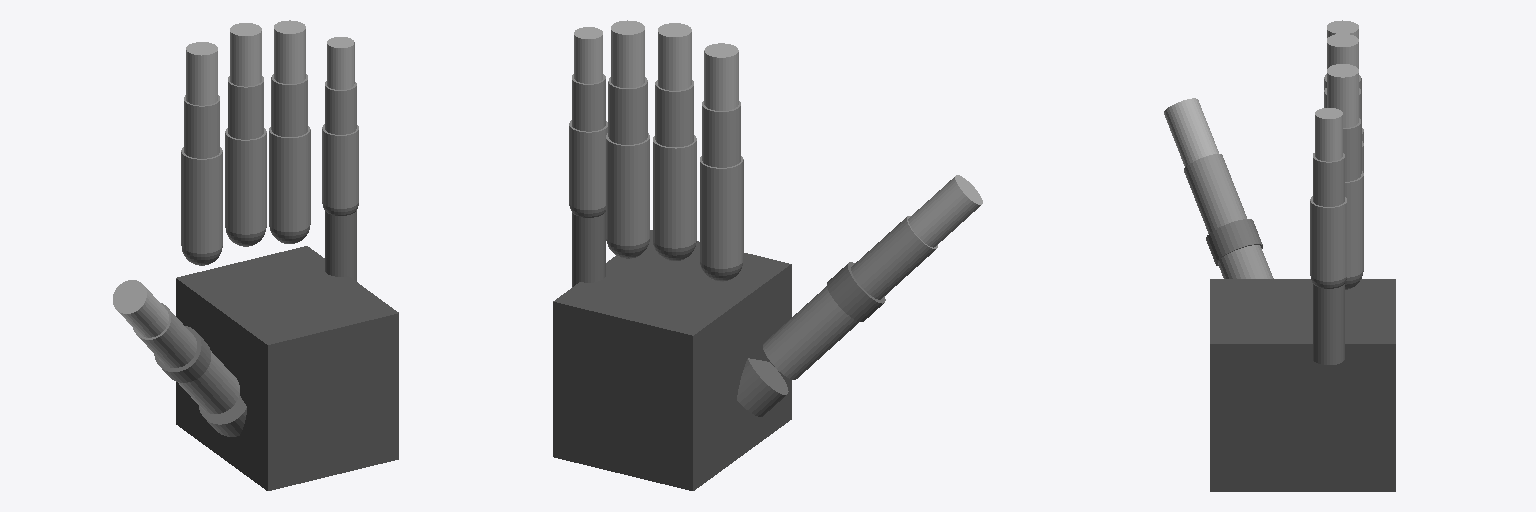
URDF robot description (shadowhand-left):
<?xml version="1.0" encoding="utf-8"?>
<robot name="shadowhand-left">
  <mujoco>
    <compiler balanceinertia="true" discardvisual="false" eulerseq="xyz" autolimits="true"/>
  </mujoco>

  <!-- Palm Link -->
  <link name="lh_palm">
    <inertial>
      <origin xyz="0 0 0.035" rpy="0 0 0"/>
      <mass value="0.3"/>
      <inertia ixx="0.0003" ixy="0" ixz="0" iyy="0.0002" iyz="0" izz="0.0001"/>
    </inertial>
    <visual>
      <origin xyz="0 0 0.035" rpy="0 0 0"/>
      <geometry>
        <box size="0.066 0.08 0.07"/>
      </geometry>
      <material name="grey">
        <color rgba="0.4 0.4 0.4 1"/>
      </material>
    </visual>
    <collision>
      <origin xyz="0 0 0.035" rpy="0 0 0"/>
      <geometry>
        <box size="0.066 0.08 0.07"/>
      </geometry>
    </collision>
  </link>

  <!-- ==================== THUMB (Mirrored) ==================== -->
  <link name="lh_thbase">
    <inertial>
      <origin xyz="0 0 0" rpy="0 0 0"/>
      <mass value="0.01"/>
      <inertia ixx="1e-6" ixy="0" ixz="0" iyy="1e-6" iyz="0" izz="1e-6"/>
    </inertial>
    <visual>
      <origin xyz="0 0 0" rpy="0 0 0"/>
      <geometry>
        <cylinder radius="0.012" length="0.014"/>
      </geometry>
      <material name="darkgrey">
        <color rgba="0.5 0.5 0.5 1"/>
      </material>
    </visual>
    <collision>
      <origin xyz="0 0 0" rpy="0 0 0"/>
      <geometry>
        <cylinder radius="0.012" length="0.014"/>
      </geometry>
    </collision>
  </link>
  <joint name="lh_THJ5" type="revolute">
    <origin xyz="-0.034 -0.009 0.029" rpy="0 -0.7854 0.5236"/>
    <parent link="lh_palm"/>
    <child link="lh_thbase"/>
    <axis xyz="0 0 1"/>
    <limit lower="-1.047" upper="1.047" effort="2" velocity="4"/>
  </joint>

  <link name="lh_thproximal">
    <inertial>
      <origin xyz="0 0 0.019" rpy="0 0 0"/>
      <mass value="0.04"/>
      <inertia ixx="1e-5" ixy="0" ixz="0" iyy="1e-5" iyz="0" izz="5e-6"/>
    </inertial>
    <visual>
      <origin xyz="0 0 0.019" rpy="0 0 0"/>
      <geometry>
        <cylinder radius="0.01" length="0.038"/>
      </geometry>
      <material name="lightgrey">
        <color rgba="0.6 0.6 0.6 1"/>
      </material>
    </visual>
    <collision>
      <origin xyz="0 0 0.019" rpy="0 0 0"/>
      <geometry>
        <cylinder radius="0.01" length="0.038"/>
      </geometry>
    </collision>
  </link>
  <joint name="lh_THJ4" type="revolute">
    <origin xyz="0 0 0.014" rpy="0 0 0"/>
    <parent link="lh_thbase"/>
    <child link="lh_thproximal"/>
    <axis xyz="1 0 0"/>
    <limit lower="0" upper="1.222" effort="2" velocity="4"/>
  </joint>

  <link name="lh_thhub">
    <inertial>
      <origin xyz="0 0 0.005" rpy="0 0 0"/>
      <mass value="0.01"/>
      <inertia ixx="1e-6" ixy="0" ixz="0" iyy="1e-6" iyz="0" izz="1e-6"/>
    </inertial>
    <visual>
      <origin xyz="0 0 0.006" rpy="0 0 0"/>
      <geometry>
        <cylinder radius="0.011" length="0.012"/>
      </geometry>
      <material name="darkgrey"/>
    </visual>
    <collision>
      <origin xyz="0 0 0.006" rpy="0 0 0"/>
      <geometry>
        <cylinder radius="0.011" length="0.012"/>
      </geometry>
    </collision>
  </link>
  <joint name="lh_THJ3" type="revolute">
    <origin xyz="0 0 0.038" rpy="0 0 0"/>
    <parent link="lh_thproximal"/>
    <child link="lh_thhub"/>
    <axis xyz="1 0 0"/>
    <limit lower="-0.209" upper="0.209" effort="1" velocity="4"/>
  </joint>

  <link name="lh_thmiddle">
    <inertial>
      <origin xyz="0 0 0.016" rpy="0 0 0"/>
      <mass value="0.026"/>
      <inertia ixx="8e-6" ixy="0" ixz="0" iyy="8e-6" iyz="0" izz="3e-6"/>
    </inertial>
    <visual>
      <origin xyz="0 0 0.016" rpy="0 0 0"/>
      <geometry>
        <cylinder radius="0.009" length="0.032"/>
      </geometry>
      <material name="lightgrey"/>
    </visual>
    <collision>
      <origin xyz="0 0 0.016" rpy="0 0 0"/>
      <geometry>
        <cylinder radius="0.009" length="0.032"/>
      </geometry>
    </collision>
  </link>
  <joint name="lh_THJ2" type="revolute">
    <origin xyz="0 0 0.012" rpy="0 0 0"/>
    <parent link="lh_thhub"/>
    <child link="lh_thmiddle"/>
    <axis xyz="1 0 0"/>
    <limit lower="-0.524" upper="0.524" effort="1" velocity="4"/>
  </joint>

  <link name="lh_thdistal">
    <inertial>
      <origin xyz="0 0 0.0135" rpy="0 0 0"/>
      <mass value="0.016"/>
      <inertia ixx="4e-6" ixy="0" ixz="0" iyy="4e-6" iyz="0" izz="2e-6"/>
    </inertial>
    <visual>
      <origin xyz="0 0 0.0135" rpy="0 0 0"/>
      <geometry>
        <cylinder radius="0.008" length="0.027"/>
      </geometry>
      <material name="white">
        <color rgba="0.7 0.7 0.7 1"/>
      </material>
    </visual>
    <collision>
      <origin xyz="0 0 0.0135" rpy="0 0 0"/>
      <geometry>
        <cylinder radius="0.008" length="0.027"/>
      </geometry>
    </collision>
  </link>
  <joint name="lh_THJ1" type="revolute">
    <origin xyz="0 0 0.032" rpy="0 0 0"/>
    <parent link="lh_thmiddle"/>
    <child link="lh_thdistal"/>
    <axis xyz="1 0 0"/>
    <limit lower="-0.262" upper="1.571" effort="0.5" velocity="4"/>
  </joint>

  <link name="lh_thtip">
    <inertial>
      <origin xyz="0 0 0" rpy="0 0 0"/>
      <mass value="0.001"/>
      <inertia ixx="1e-8" ixy="0" ixz="0" iyy="1e-8" iyz="0" izz="1e-8"/>
    </inertial>
  </link>
  <joint name="lh_thtip_fixed" type="fixed">
    <origin xyz="0 0 0.027" rpy="0 0 0"/>
    <parent link="lh_thdistal"/>
    <child link="lh_thtip"/>
  </joint>

  <!-- ==================== FIRST FINGER (INDEX) (Mirrored) ==================== -->
  <link name="lh_ffknuckle">
    <inertial>
      <origin xyz="0 0 0" rpy="0 0 0"/>
      <mass value="0.008"/>
      <inertia ixx="5e-7" ixy="0" ixz="0" iyy="5e-7" iyz="0" izz="5e-7"/>
    </inertial>
    <visual>
      <origin xyz="0 0 0" rpy="0 0 0"/>
      <geometry>
        <sphere radius="0.009"/>
      </geometry>
      <material name="darkgrey"/>
    </visual>
    <collision>
      <origin xyz="0 0 0" rpy="0 0 0"/>
      <geometry>
        <sphere radius="0.009"/>
      </geometry>
    </collision>
  </link>
  <joint name="lh_FFJ4" type="revolute">
    <origin xyz="-0.033 0.017 0.095" rpy="0 0 0"/>
    <parent link="lh_palm"/>
    <child link="lh_ffknuckle"/>
    <axis xyz="0 1 0"/>
    <limit lower="-0.349" upper="0.349" effort="0.5" velocity="4"/>
  </joint>

  <link name="lh_ffproximal">
    <inertial>
      <origin xyz="0 0 0.0225" rpy="0 0 0"/>
      <mass value="0.03"/>
      <inertia ixx="1.2e-5" ixy="0" ixz="0" iyy="1.2e-5" iyz="0" izz="4e-6"/>
    </inertial>
    <visual>
      <origin xyz="0 0 0.0225" rpy="0 0 0"/>
      <geometry>
        <cylinder radius="0.009" length="0.045"/>
      </geometry>
      <material name="lightgrey"/>
    </visual>
    <collision>
      <origin xyz="0 0 0.0225" rpy="0 0 0"/>
      <geometry>
        <cylinder radius="0.009" length="0.045"/>
      </geometry>
    </collision>
  </link>
  <joint name="lh_FFJ3" type="revolute">
    <origin xyz="0 0 0" rpy="0 0 0"/>
    <parent link="lh_ffknuckle"/>
    <child link="lh_ffproximal"/>
    <axis xyz="1 0 0"/>
    <limit lower="0" upper="1.571" effort="2" velocity="4"/>
  </joint>

  <link name="lh_ffmiddle">
    <inertial>
      <origin xyz="0 0 0.0125" rpy="0 0 0"/>
      <mass value="0.017"/>
      <inertia ixx="5e-6" ixy="0" ixz="0" iyy="5e-6" iyz="0" izz="2e-6"/>
    </inertial>
    <visual>
      <origin xyz="0 0 0.0125" rpy="0 0 0"/>
      <geometry>
        <cylinder radius="0.008" length="0.025"/>
      </geometry>
      <material name="lightgrey"/>
    </visual>
    <collision>
      <origin xyz="0 0 0.0125" rpy="0 0 0"/>
      <geometry>
        <cylinder radius="0.008" length="0.025"/>
      </geometry>
    </collision>
  </link>
  <joint name="lh_FFJ2" type="revolute">
    <origin xyz="0 0 0.045" rpy="0 0 0"/>
    <parent link="lh_ffproximal"/>
    <child link="lh_ffmiddle"/>
    <axis xyz="1 0 0"/>
    <limit lower="0" upper="1.571" effort="1" velocity="4"/>
  </joint>

  <link name="lh_ffdistal">
    <inertial>
      <origin xyz="0 0 0.012" rpy="0 0 0"/>
      <mass value="0.012"/>
      <inertia ixx="3e-6" ixy="0" ixz="0" iyy="3e-6" iyz="0" izz="1e-6"/>
    </inertial>
    <visual>
      <origin xyz="0 0 0.012" rpy="0 0 0"/>
      <geometry>
        <cylinder radius="0.007" length="0.024"/>
      </geometry>
      <material name="white"/>
    </visual>
    <collision>
      <origin xyz="0 0 0.012" rpy="0 0 0"/>
      <geometry>
        <cylinder radius="0.007" length="0.024"/>
      </geometry>
    </collision>
  </link>
  <joint name="lh_FFJ1" type="revolute">
    <origin xyz="0 0 0.025" rpy="0 0 0"/>
    <parent link="lh_ffmiddle"/>
    <child link="lh_ffdistal"/>
    <axis xyz="1 0 0"/>
    <limit lower="0" upper="1.571" effort="0.5" velocity="4"/>
  </joint>

  <link name="lh_fftip">
    <inertial>
      <origin xyz="0 0 0" rpy="0 0 0"/>
      <mass value="0.001"/>
      <inertia ixx="1e-8" ixy="0" ixz="0" iyy="1e-8" iyz="0" izz="1e-8"/>
    </inertial>
  </link>
  <joint name="lh_fftip_fixed" type="fixed">
    <origin xyz="0 0 0.024" rpy="0 0 0"/>
    <parent link="lh_ffdistal"/>
    <child link="lh_fftip"/>
  </joint>

  <!-- ==================== MIDDLE FINGER ==================== -->
  <link name="lh_mfknuckle">
    <inertial>
      <origin xyz="0 0 0" rpy="0 0 0"/>
      <mass value="0.008"/>
      <inertia ixx="5e-7" ixy="0" ixz="0" iyy="5e-7" iyz="0" izz="5e-7"/>
    </inertial>
    <visual>
      <origin xyz="0 0 0" rpy="0 0 0"/>
      <geometry>
        <sphere radius="0.009"/>
      </geometry>
      <material name="darkgrey"/>
    </visual>
    <collision>
      <origin xyz="0 0 0" rpy="0 0 0"/>
      <geometry>
        <sphere radius="0.009"/>
      </geometry>
    </collision>
  </link>
  <joint name="lh_MFJ4" type="revolute">
    <origin xyz="-0.011 0.017 0.099" rpy="0 0 0"/>
    <parent link="lh_palm"/>
    <child link="lh_mfknuckle"/>
    <axis xyz="0 1 0"/>
    <limit lower="-0.349" upper="0.349" effort="0.5" velocity="4"/>
  </joint>

  <link name="lh_mfproximal">
    <inertial>
      <origin xyz="0 0 0.0225" rpy="0 0 0"/>
      <mass value="0.03"/>
      <inertia ixx="1.2e-5" ixy="0" ixz="0" iyy="1.2e-5" iyz="0" izz="4e-6"/>
    </inertial>
    <visual>
      <origin xyz="0 0 0.0225" rpy="0 0 0"/>
      <geometry>
        <cylinder radius="0.009" length="0.045"/>
      </geometry>
      <material name="lightgrey"/>
    </visual>
    <collision>
      <origin xyz="0 0 0.0225" rpy="0 0 0"/>
      <geometry>
        <cylinder radius="0.009" length="0.045"/>
      </geometry>
    </collision>
  </link>
  <joint name="lh_MFJ3" type="revolute">
    <origin xyz="0 0 0" rpy="0 0 0"/>
    <parent link="lh_mfknuckle"/>
    <child link="lh_mfproximal"/>
    <axis xyz="1 0 0"/>
    <limit lower="0" upper="1.571" effort="2" velocity="4"/>
  </joint>

  <link name="lh_mfmiddle">
    <inertial>
      <origin xyz="0 0 0.0125" rpy="0 0 0"/>
      <mass value="0.017"/>
      <inertia ixx="5e-6" ixy="0" ixz="0" iyy="5e-6" iyz="0" izz="2e-6"/>
    </inertial>
    <visual>
      <origin xyz="0 0 0.0125" rpy="0 0 0"/>
      <geometry>
        <cylinder radius="0.008" length="0.025"/>
      </geometry>
      <material name="lightgrey"/>
    </visual>
    <collision>
      <origin xyz="0 0 0.0125" rpy="0 0 0"/>
      <geometry>
        <cylinder radius="0.008" length="0.025"/>
      </geometry>
    </collision>
  </link>
  <joint name="lh_MFJ2" type="revolute">
    <origin xyz="0 0 0.045" rpy="0 0 0"/>
    <parent link="lh_mfproximal"/>
    <child link="lh_mfmiddle"/>
    <axis xyz="1 0 0"/>
    <limit lower="0" upper="1.571" effort="1" velocity="4"/>
  </joint>

  <link name="lh_mfdistal">
    <inertial>
      <origin xyz="0 0 0.012" rpy="0 0 0"/>
      <mass value="0.012"/>
      <inertia ixx="3e-6" ixy="0" ixz="0" iyy="3e-6" iyz="0" izz="1e-6"/>
    </inertial>
    <visual>
      <origin xyz="0 0 0.012" rpy="0 0 0"/>
      <geometry>
        <cylinder radius="0.007" length="0.024"/>
      </geometry>
      <material name="white"/>
    </visual>
    <collision>
      <origin xyz="0 0 0.012" rpy="0 0 0"/>
      <geometry>
        <cylinder radius="0.007" length="0.024"/>
      </geometry>
    </collision>
  </link>
  <joint name="lh_MFJ1" type="revolute">
    <origin xyz="0 0 0.025" rpy="0 0 0"/>
    <parent link="lh_mfmiddle"/>
    <child link="lh_mfdistal"/>
    <axis xyz="1 0 0"/>
    <limit lower="0" upper="1.571" effort="0.5" velocity="4"/>
  </joint>

  <link name="lh_mftip">
    <inertial>
      <origin xyz="0 0 0" rpy="0 0 0"/>
      <mass value="0.001"/>
      <inertia ixx="1e-8" ixy="0" ixz="0" iyy="1e-8" iyz="0" izz="1e-8"/>
    </inertial>
  </link>
  <joint name="lh_mftip_fixed" type="fixed">
    <origin xyz="0 0 0.024" rpy="0 0 0"/>
    <parent link="lh_mfdistal"/>
    <child link="lh_mftip"/>
  </joint>

  <!-- ==================== RING FINGER (Mirrored) ==================== -->
  <link name="lh_rfknuckle">
    <inertial>
      <origin xyz="0 0 0" rpy="0 0 0"/>
      <mass value="0.008"/>
      <inertia ixx="5e-7" ixy="0" ixz="0" iyy="5e-7" iyz="0" izz="5e-7"/>
    </inertial>
    <visual>
      <origin xyz="0 0 0" rpy="0 0 0"/>
      <geometry>
        <sphere radius="0.009"/>
      </geometry>
      <material name="darkgrey"/>
    </visual>
    <collision>
      <origin xyz="0 0 0" rpy="0 0 0"/>
      <geometry>
        <sphere radius="0.009"/>
      </geometry>
    </collision>
  </link>
  <joint name="lh_RFJ4" type="revolute">
    <origin xyz="0.011 0.017 0.095" rpy="0 0 0"/>
    <parent link="lh_palm"/>
    <child link="lh_rfknuckle"/>
    <axis xyz="0 1 0"/>
    <limit lower="-0.349" upper="0.349" effort="0.5" velocity="4"/>
  </joint>

  <link name="lh_rfproximal">
    <inertial>
      <origin xyz="0 0 0.0225" rpy="0 0 0"/>
      <mass value="0.03"/>
      <inertia ixx="1.2e-5" ixy="0" ixz="0" iyy="1.2e-5" iyz="0" izz="4e-6"/>
    </inertial>
    <visual>
      <origin xyz="0 0 0.0225" rpy="0 0 0"/>
      <geometry>
        <cylinder radius="0.009" length="0.045"/>
      </geometry>
      <material name="lightgrey"/>
    </visual>
    <collision>
      <origin xyz="0 0 0.0225" rpy="0 0 0"/>
      <geometry>
        <cylinder radius="0.009" length="0.045"/>
      </geometry>
    </collision>
  </link>
  <joint name="lh_RFJ3" type="revolute">
    <origin xyz="0 0 0" rpy="0 0 0"/>
    <parent link="lh_rfknuckle"/>
    <child link="lh_rfproximal"/>
    <axis xyz="1 0 0"/>
    <limit lower="0" upper="1.571" effort="2" velocity="4"/>
  </joint>

  <link name="lh_rfmiddle">
    <inertial>
      <origin xyz="0 0 0.0125" rpy="0 0 0"/>
      <mass value="0.017"/>
      <inertia ixx="5e-6" ixy="0" ixz="0" iyy="5e-6" iyz="0" izz="2e-6"/>
    </inertial>
    <visual>
      <origin xyz="0 0 0.0125" rpy="0 0 0"/>
      <geometry>
        <cylinder radius="0.008" length="0.025"/>
      </geometry>
      <material name="lightgrey"/>
    </visual>
    <collision>
      <origin xyz="0 0 0.0125" rpy="0 0 0"/>
      <geometry>
        <cylinder radius="0.008" length="0.025"/>
      </geometry>
    </collision>
  </link>
  <joint name="lh_RFJ2" type="revolute">
    <origin xyz="0 0 0.045" rpy="0 0 0"/>
    <parent link="lh_rfproximal"/>
    <child link="lh_rfmiddle"/>
    <axis xyz="1 0 0"/>
    <limit lower="0" upper="1.571" effort="1" velocity="4"/>
  </joint>

  <link name="lh_rfdistal">
    <inertial>
      <origin xyz="0 0 0.012" rpy="0 0 0"/>
      <mass value="0.012"/>
      <inertia ixx="3e-6" ixy="0" ixz="0" iyy="3e-6" iyz="0" izz="1e-6"/>
    </inertial>
    <visual>
      <origin xyz="0 0 0.012" rpy="0 0 0"/>
      <geometry>
        <cylinder radius="0.007" length="0.024"/>
      </geometry>
      <material name="white"/>
    </visual>
    <collision>
      <origin xyz="0 0 0.012" rpy="0 0 0"/>
      <geometry>
        <cylinder radius="0.007" length="0.024"/>
      </geometry>
    </collision>
  </link>
  <joint name="lh_RFJ1" type="revolute">
    <origin xyz="0 0 0.025" rpy="0 0 0"/>
    <parent link="lh_rfmiddle"/>
    <child link="lh_rfdistal"/>
    <axis xyz="1 0 0"/>
    <limit lower="0" upper="1.571" effort="0.5" velocity="4"/>
  </joint>

  <link name="lh_rftip">
    <inertial>
      <origin xyz="0 0 0" rpy="0 0 0"/>
      <mass value="0.001"/>
      <inertia ixx="1e-8" ixy="0" ixz="0" iyy="1e-8" iyz="0" izz="1e-8"/>
    </inertial>
  </link>
  <joint name="lh_rftip_fixed" type="fixed">
    <origin xyz="0 0 0.024" rpy="0 0 0"/>
    <parent link="lh_rfdistal"/>
    <child link="lh_rftip"/>
  </joint>

  <!-- ==================== LITTLE FINGER (Mirrored) ==================== -->
  <link name="lh_lfmetacarpal">
    <inertial>
      <origin xyz="0 0 0.02" rpy="0 0 0"/>
      <mass value="0.02"/>
      <inertia ixx="8e-6" ixy="0" ixz="0" iyy="8e-6" iyz="0" izz="3e-6"/>
    </inertial>
    <visual>
      <origin xyz="0 0 0.02" rpy="0 0 0"/>
      <geometry>
        <cylinder radius="0.007" length="0.04"/>
      </geometry>
      <material name="darkgrey"/>
    </visual>
    <collision>
      <origin xyz="0 0 0.02" rpy="0 0 0"/>
      <geometry>
        <cylinder radius="0.007" length="0.04"/>
      </geometry>
    </collision>
  </link>
  <joint name="lh_LFJ5" type="revolute">
    <origin xyz="0.033 0.011 0.063" rpy="0 0 0.0873"/>
    <parent link="lh_palm"/>
    <child link="lh_lfmetacarpal"/>
    <axis xyz="0 1 0"/>
    <limit lower="0" upper="0.698" effort="1" velocity="4"/>
  </joint>

  <link name="lh_lfknuckle">
    <inertial>
      <origin xyz="0 0 0" rpy="0 0 0"/>
      <mass value="0.008"/>
      <inertia ixx="5e-7" ixy="0" ixz="0" iyy="5e-7" iyz="0" izz="5e-7"/>
    </inertial>
    <visual>
      <origin xyz="0 0 0" rpy="0 0 0"/>
      <geometry>
        <sphere radius="0.008"/>
      </geometry>
      <material name="darkgrey"/>
    </visual>
    <collision>
      <origin xyz="0 0 0" rpy="0 0 0"/>
      <geometry>
        <sphere radius="0.008"/>
      </geometry>
    </collision>
  </link>
  <joint name="lh_LFJ4" type="revolute">
    <origin xyz="0 0 0.04" rpy="0 0 0"/>
    <parent link="lh_lfmetacarpal"/>
    <child link="lh_lfknuckle"/>
    <axis xyz="0 1 0"/>
    <limit lower="-0.349" upper="0.349" effort="0.5" velocity="4"/>
  </joint>

  <link name="lh_lfproximal">
    <inertial>
      <origin xyz="0 0 0.0175" rpy="0 0 0"/>
      <mass value="0.025"/>
      <inertia ixx="8e-6" ixy="0" ixz="0" iyy="8e-6" iyz="0" izz="3e-6"/>
    </inertial>
    <visual>
      <origin xyz="0 0 0.0175" rpy="0 0 0"/>
      <geometry>
        <cylinder radius="0.008" length="0.035"/>
      </geometry>
      <material name="lightgrey"/>
    </visual>
    <collision>
      <origin xyz="0 0 0.0175" rpy="0 0 0"/>
      <geometry>
        <cylinder radius="0.008" length="0.035"/>
      </geometry>
    </collision>
  </link>
  <joint name="lh_LFJ3" type="revolute">
    <origin xyz="0 0 0" rpy="0 0 0"/>
    <parent link="lh_lfknuckle"/>
    <child link="lh_lfproximal"/>
    <axis xyz="1 0 0"/>
    <limit lower="0" upper="1.571" effort="2" velocity="4"/>
  </joint>

  <link name="lh_lfmiddle">
    <inertial>
      <origin xyz="0 0 0.0105" rpy="0 0 0"/>
      <mass value="0.014"/>
      <inertia ixx="4e-6" ixy="0" ixz="0" iyy="4e-6" iyz="0" izz="1.5e-6"/>
    </inertial>
    <visual>
      <origin xyz="0 0 0.0105" rpy="0 0 0"/>
      <geometry>
        <cylinder radius="0.007" length="0.021"/>
      </geometry>
      <material name="lightgrey"/>
    </visual>
    <collision>
      <origin xyz="0 0 0.0105" rpy="0 0 0"/>
      <geometry>
        <cylinder radius="0.007" length="0.021"/>
      </geometry>
    </collision>
  </link>
  <joint name="lh_LFJ2" type="revolute">
    <origin xyz="0 0 0.035" rpy="0 0 0"/>
    <parent link="lh_lfproximal"/>
    <child link="lh_lfmiddle"/>
    <axis xyz="1 0 0"/>
    <limit lower="0" upper="1.571" effort="1" velocity="4"/>
  </joint>

  <link name="lh_lfdistal">
    <inertial>
      <origin xyz="0 0 0.01" rpy="0 0 0"/>
      <mass value="0.01"/>
      <inertia ixx="2e-6" ixy="0" ixz="0" iyy="2e-6" iyz="0" izz="1e-6"/>
    </inertial>
    <visual>
      <origin xyz="0 0 0.01" rpy="0 0 0"/>
      <geometry>
        <cylinder radius="0.006" length="0.020"/>
      </geometry>
      <material name="white"/>
    </visual>
    <collision>
      <origin xyz="0 0 0.01" rpy="0 0 0"/>
      <geometry>
        <cylinder radius="0.006" length="0.020"/>
      </geometry>
    </collision>
  </link>
  <joint name="lh_LFJ1" type="revolute">
    <origin xyz="0 0 0.021" rpy="0 0 0"/>
    <parent link="lh_lfmiddle"/>
    <child link="lh_lfdistal"/>
    <axis xyz="1 0 0"/>
    <limit lower="0" upper="1.571" effort="0.5" velocity="4"/>
  </joint>

  <link name="lh_lftip">
    <inertial>
      <origin xyz="0 0 0" rpy="0 0 0"/>
      <mass value="0.001"/>
      <inertia ixx="1e-8" ixy="0" ixz="0" iyy="1e-8" iyz="0" izz="1e-8"/>
    </inertial>
  </link>
  <joint name="lh_lftip_fixed" type="fixed">
    <origin xyz="0 0 0.020" rpy="0 0 0"/>
    <parent link="lh_lfdistal"/>
    <child link="lh_lftip"/>
  </joint>
</robot>

--- Render facts (derived) ---
The picture shows the robot from 3 angles, left to right: view 1: azimuth 30°, elevation 25°; view 2: azimuth 150°, elevation 25°; view 3: azimuth 270°, elevation 25°; orthographic projection.
Model shadowhand-left with 28 links and 27 joints (22 revolute, 5 fixed), rooted at lh_palm, posed all joints at 0.
Links seen in each view (by area): view 1: lh_palm, lh_ffproximal, lh_mfproximal, lh_rfproximal, lh_lfproximal, lh_thdistal, lh_rfmiddle, lh_lfmetacarpal, lh_thproximal, lh_ffdistal, lh_mfdistal, lh_rfdistal (+7 smaller); view 2: lh_palm, lh_mfproximal, lh_ffproximal, lh_rfproximal, lh_thproximal, lh_thmiddle, lh_lfproximal, lh_thdistal, lh_rfmiddle, lh_ffdistal, lh_lfmetacarpal, lh_ffmiddle (+7 smaller); view 3: lh_palm, lh_thmiddle, lh_lfproximal, lh_lfmetacarpal, lh_thdistal, lh_rfdistal, lh_rfproximal, lh_lfmiddle, lh_lfdistal, lh_thhub, lh_thproximal, lh_rfmiddle (+1 smaller).
Link boxes in pixels (x1,y1,x2,y2): lh_palm: (176,246,398,490); lh_ffproximal: (181,147,222,253); lh_mfproximal: (225,128,266,234); lh_rfproximal: (269,126,310,231); lh_lfproximal: (322,124,358,208); lh_thdistal: (113,280,168,337); lh_rfmiddle: (271,74,307,136); lh_lfmetacarpal: (325,210,356,281); lh_thproximal: (178,351,239,413); lh_ffdistal: (186,42,217,105); lh_mfdistal: (230,23,261,86); lh_rfdistal: (274,20,305,83); lh_palm: (553,230,791,490); lh_mfproximal: (653,135,696,248); lh_ffproximal: (700,156,743,268); lh_rfproximal: (606,133,649,245); lh_thproximal: (763,286,858,379); lh_thmiddle: (851,216,937,299); lh_lfproximal: (569,120,607,209); lh_thdistal: (908,175,982,247); lh_rfmiddle: (608,77,647,144); lh_ffdistal: (704,43,738,110); lh_lfmetacarpal: (572,212,605,286); lh_ffmiddle: (702,101,740,167); lh_palm: (1210,279,1395,491); lh_thmiddle: (1184,154,1246,233); lh_lfproximal: (1310,196,1346,281); lh_lfmetacarpal: (1313,284,1344,364); lh_thdistal: (1164,98,1218,166); lh_rfdistal: (1327,64,1358,127); lh_rfproximal: (1345,171,1363,277); lh_lfmiddle: (1313,153,1344,206); lh_lfdistal: (1315,108,1342,161); lh_thhub: (1206,219,1262,265); lh_thproximal: (1218,245,1273,278); lh_rfmiddle: (1343,118,1361,181).
Bounding box of the posed robot: 0.1566 × 0.1 × 0.193 m (x, y, z).
Geometry: primitives only (box / cylinder / sphere), no mesh files.
